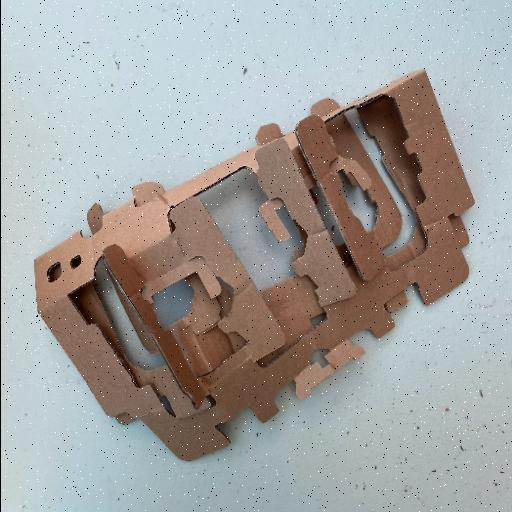Cardboard: (32, 68, 476, 464)
